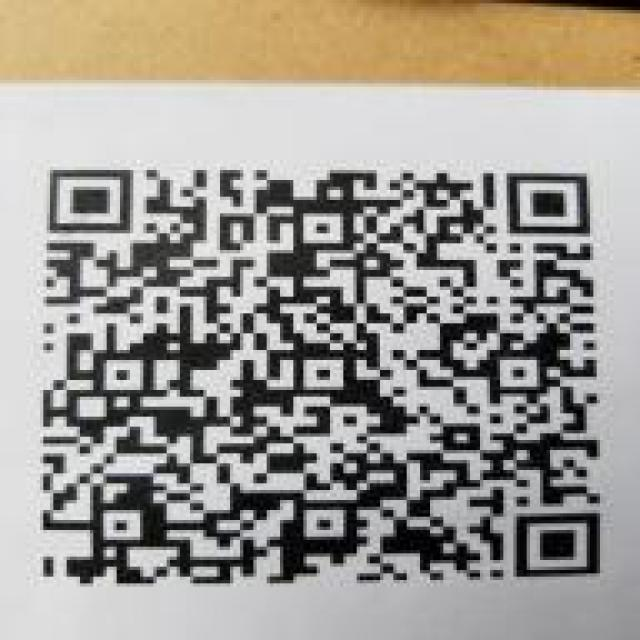QR_CODE: (13, 154, 617, 588)
